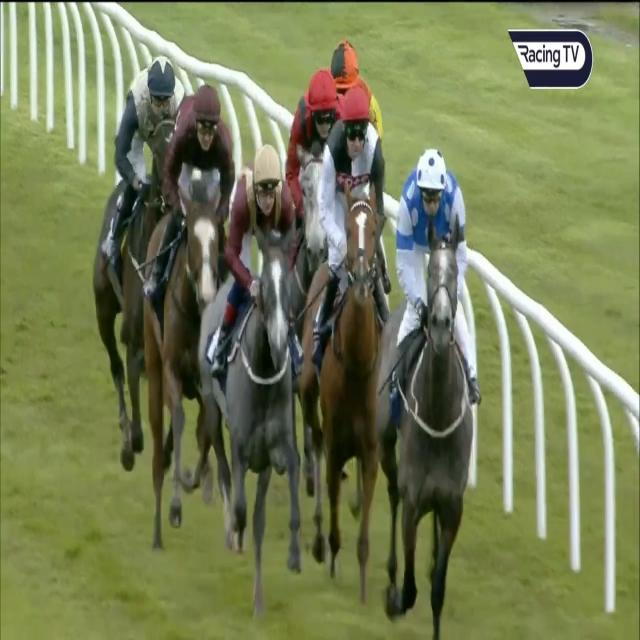horses-racing: (380, 131, 484, 622), (219, 142, 302, 589), (310, 88, 384, 580), (153, 77, 215, 536), (102, 59, 178, 426), (322, 22, 401, 140), (278, 68, 343, 184)
